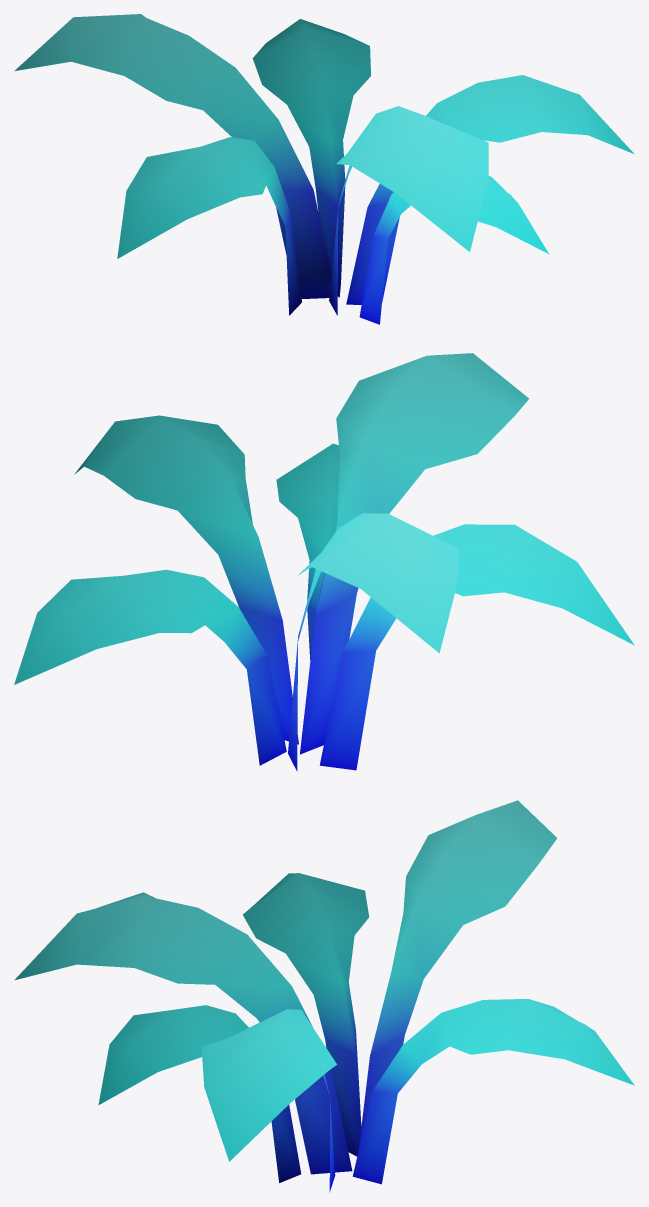
Rendered from SM_Env_Fern_03.gltf.
The picture shows the model from 3 angles, top to bottom: view 1: azimuth 30°, elevation 25°; view 2: azimuth 150°, elevation 25°; view 3: azimuth 270°, elevation 25°; orthographic projection. The views are drawn at different scales.
Visible parts, largest first — view 1: SM_Env_Fern_03_LOD0; view 2: SM_Env_Fern_03_LOD0; view 3: SM_Env_Fern_03_LOD0.
Part boxes in pixels (x1,y1,x2,y2): SM_Env_Fern_03_LOD0: [14, 14, 633, 324]; SM_Env_Fern_03_LOD0: [14, 353, 634, 771]; SM_Env_Fern_03_LOD0: [14, 800, 634, 1192].
Bounding box in the file's own units: 2.24 × 1.2 × 2.34.
